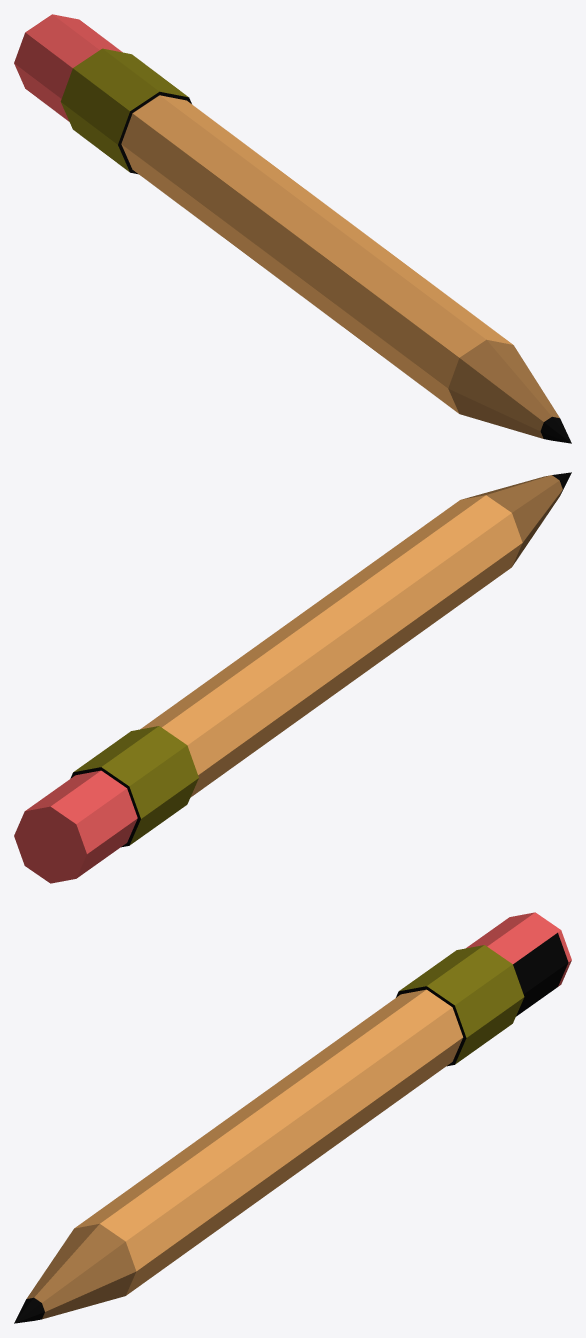
The model's file is PENCIL.fbx.
3 renders of one model, top to bottom at view 1: azimuth 30°, elevation 25°; view 2: azimuth 150°, elevation 25°; view 3: azimuth 330°, elevation 25°, orthographic. The views are drawn at different scales.
Visible parts, largest first — view 1: Pencil Wand; view 2: Pencil Wand; view 3: Pencil Wand.
Boxes of the visible parts, x1,y1,x2,y2 form: Pencil Wand: [14, 14, 571, 443]; Pencil Wand: [14, 472, 571, 883]; Pencil Wand: [14, 912, 571, 1323].
Size of the model in its own units: 54.33 by 52.26 by 579.
